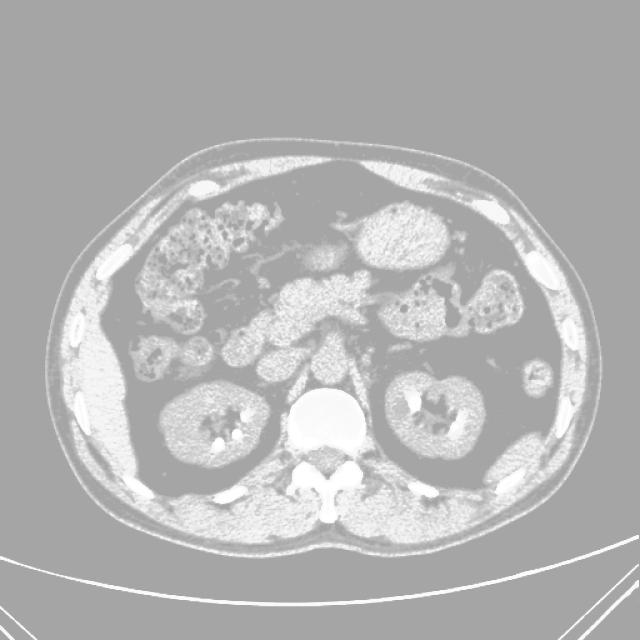STONE: (138, 270, 504, 470)
